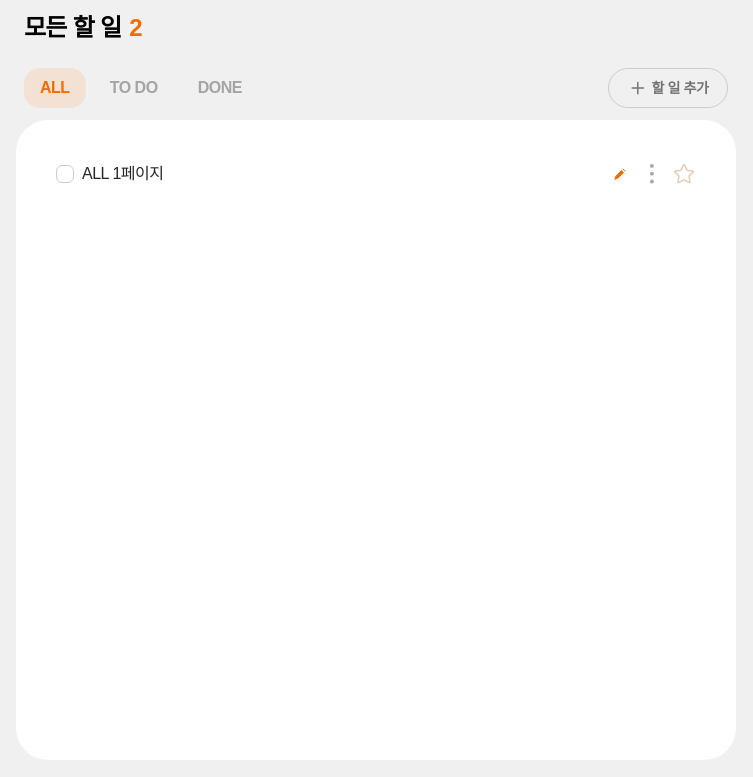
Test: TodosView › 탭을 바꾼 뒤 다음 페이지도 같은 done으로 요청하고 다른 탭 할 일은 섞이지 않는다
Expected: the button "ALL 1페이지" is shown, [82,162,600,186]
Step 1. Click the tab "TO DO" → (134,88), box [94,68,174,108]
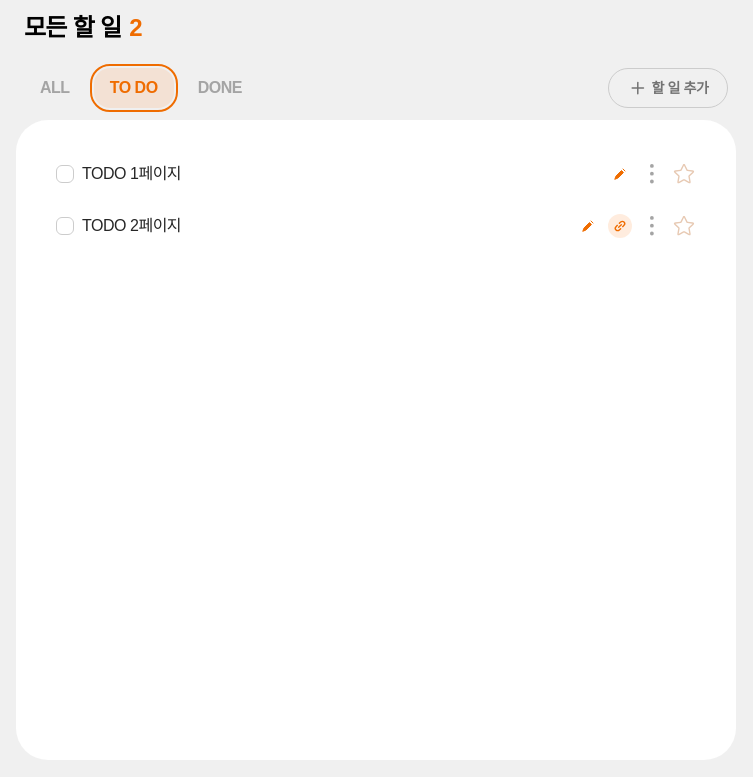
Expected: the button "TODO 1페이지" is shown, [82,162,600,186]
Expected: the button "TODO 2페이지" is shown, [82,214,568,238]
